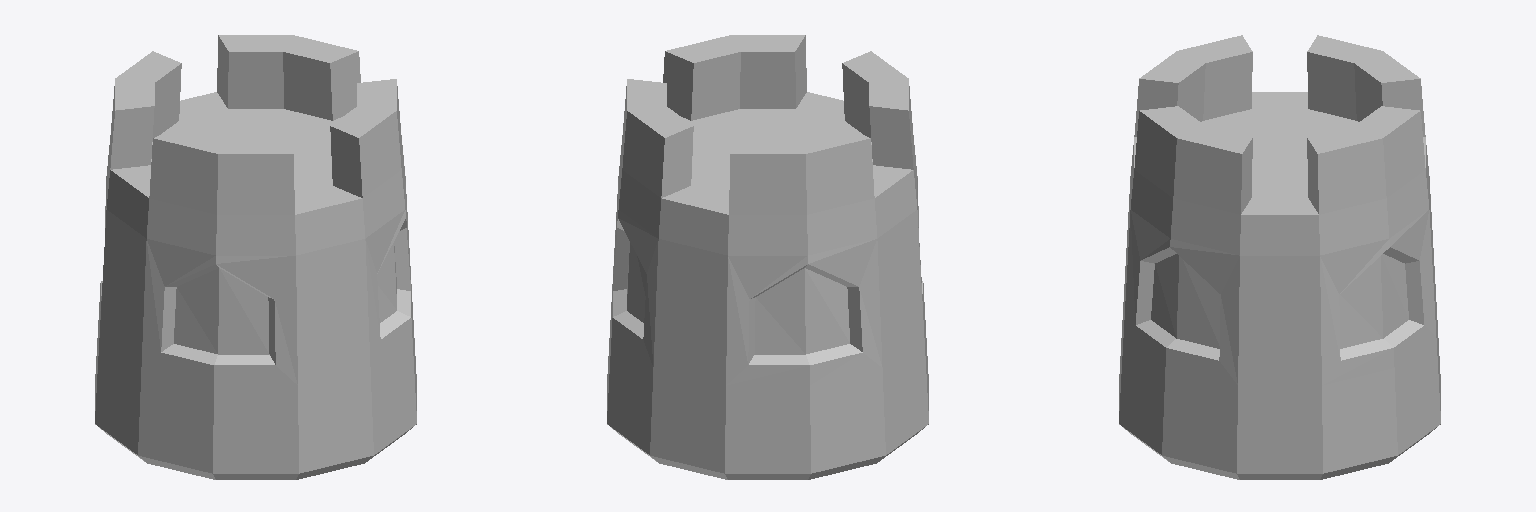
Rendered from sandcastle_B.obj.
3 views of the same model, side by side, from view 1: azimuth 30°, elevation 25°; view 2: azimuth 150°, elevation 25°; view 3: azimuth 270°, elevation 25° (orthographic).
Parts seen in each view (by area): view 1: sandcastle_B; view 2: sandcastle_B; view 3: sandcastle_B.
Boxes of the visible parts, <box> form: sandcastle_B: <box>95,35,416,479</box>; sandcastle_B: <box>607,35,928,479</box>; sandcastle_B: <box>1119,35,1440,479</box>.
Bounding box in the file's own units: 0.498 × 0.55 × 0.498.